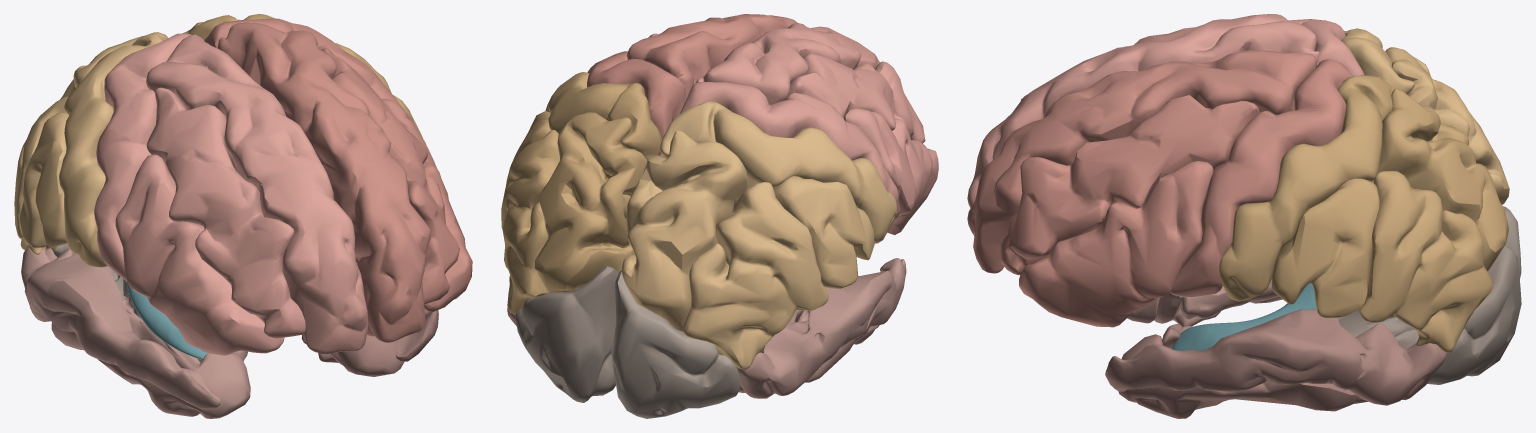
Rendered from cerebrum.glb.
3 views of the same model, side by side, from view 1: azimuth 30°, elevation 25°; view 2: azimuth 150°, elevation 25°; view 3: azimuth 270°, elevation 25° (orthographic). The views are drawn at different scales.
Parts seen in each view (by area): view 1: right-frontal, left-frontal, right-temporal, right-parietal, left-temporal, right-lateral-ventricle, left-parietal; view 2: right-parietal, left-parietal, right-frontal, right-occipital, right-temporal, left-occipital, left-frontal; view 3: left-frontal, left-parietal, left-temporal, right-frontal, left-occipital, right-parietal, right-temporal, left-lateral-ventricle, right-occipital.
Boxes of the visible parts, left/top/right/bottom form: right-frontal: left=94, top=33, right=368, bottom=355; left-frontal: left=204, top=18, right=472, bottom=342; right-temporal: left=21, top=246, right=250, bottom=418; right-parietal: left=14, top=32, right=168, bottom=267; left-temporal: left=301, top=309, right=438, bottom=376; right-lateral-ventricle: left=126, top=281, right=208, bottom=359; left-parietal: left=182, top=14, right=426, bottom=144; right-parietal: left=622, top=101, right=897, bottom=369; left-parietal: left=501, top=72, right=662, bottom=314; right-frontal: left=680, top=23, right=938, bottom=234; right-occipital: left=611, top=270, right=740, bottom=418; right-temporal: left=737, top=258, right=906, bottom=398; left-occipital: left=515, top=266, right=618, bottom=402; left-frontal: left=587, top=14, right=797, bottom=157; left-frontal: left=967, top=50, right=1352, bottom=327; left-parietal: left=1219, top=75, right=1508, bottom=352; left-temporal: left=1105, top=309, right=1446, bottom=418; right-frontal: left=967, top=14, right=1364, bottom=208; left-occipital: left=1337, top=245, right=1521, bottom=384; right-parietal: left=1341, top=28, right=1509, bottom=204; right-temporal: left=1127, top=280, right=1282, bottom=327; left-lateral-ventricle: left=1172, top=283, right=1316, bottom=350; right-occipital: left=1503, top=206, right=1521, bottom=279.
Size of the model in its own units: 2.78 by 2.34 by 3.6.
